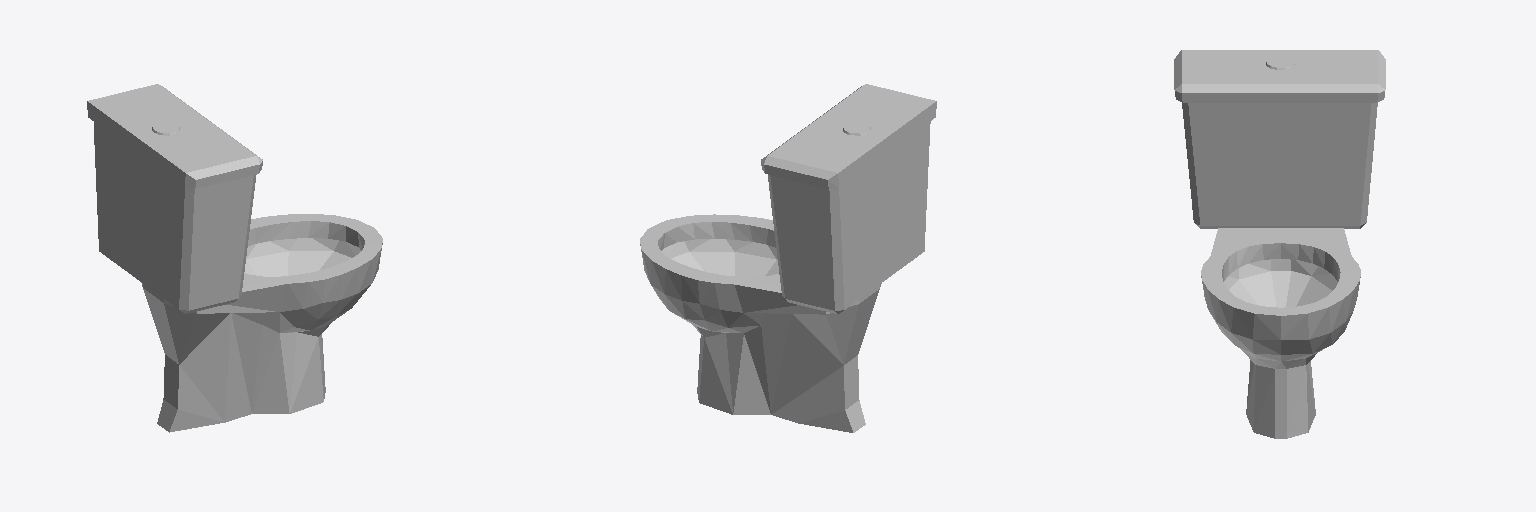
Rendered from Toilet01.obj.
The picture shows the model from 3 angles: view 1: azimuth 30°, elevation 25°; view 2: azimuth 150°, elevation 25°; view 3: azimuth 270°, elevation 25°; orthographic projection.
Visible parts, largest first — view 1: Toilet01_LOD0_toilet_modern.002; view 2: Toilet01_LOD0_toilet_modern.002; view 3: Toilet01_LOD0_toilet_modern.002.
Boxes of the visible parts, box(x1,y1,x2,y2) form: Toilet01_LOD0_toilet_modern.002: box(87, 84, 382, 432); Toilet01_LOD0_toilet_modern.002: box(640, 84, 936, 432); Toilet01_LOD0_toilet_modern.002: box(1174, 50, 1385, 438).
Bounding box in the file's own units: 0.7514 × 0.901 × 0.5741.